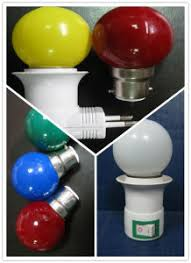bulb: (90, 8, 181, 81), (9, 8, 94, 79), (107, 121, 174, 188), (15, 200, 78, 249), (12, 150, 59, 206)
